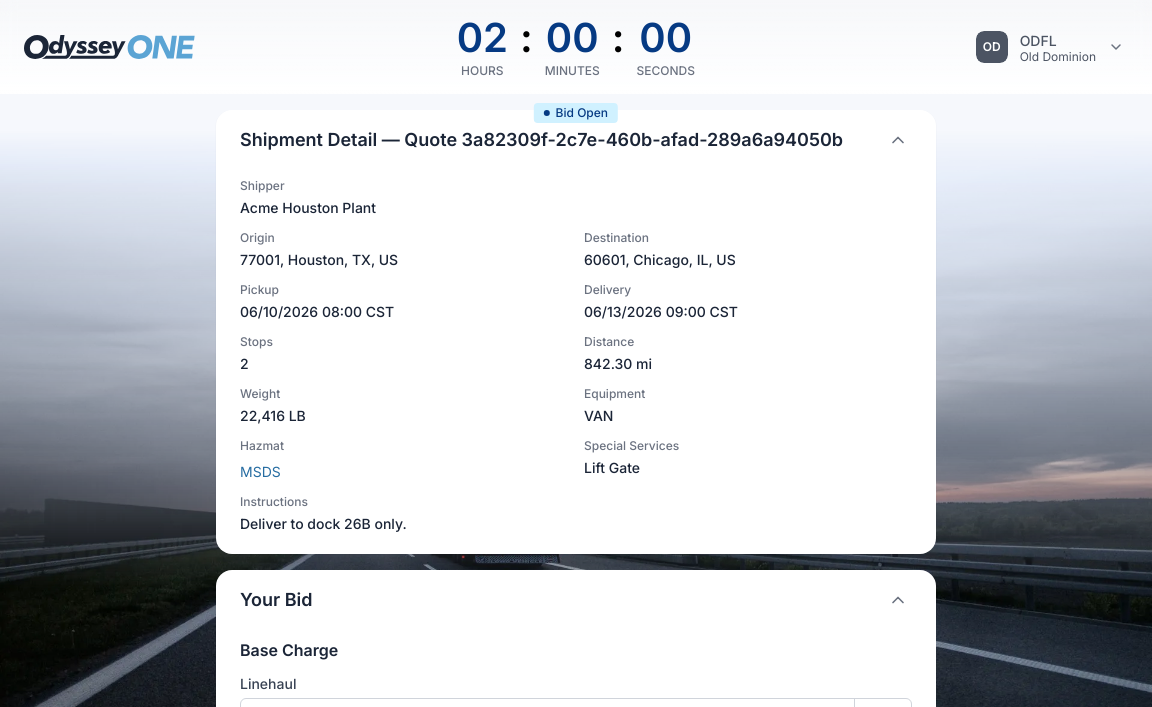
Scenario: CarrierBid — open quote › opens a profile dropdown reading "Soon, your operations in ONE place"
This screenshot has width=1152, height=707.
Check: the text "Acme Houston Plant" is shown, box [240,198,376,218]
Check: the text "Soon, your operations in ONE place" is not shown
Step 1. Click the button "OD ODFL Old Dominion" → x=1050, y=47, box [976,31,1124,63]
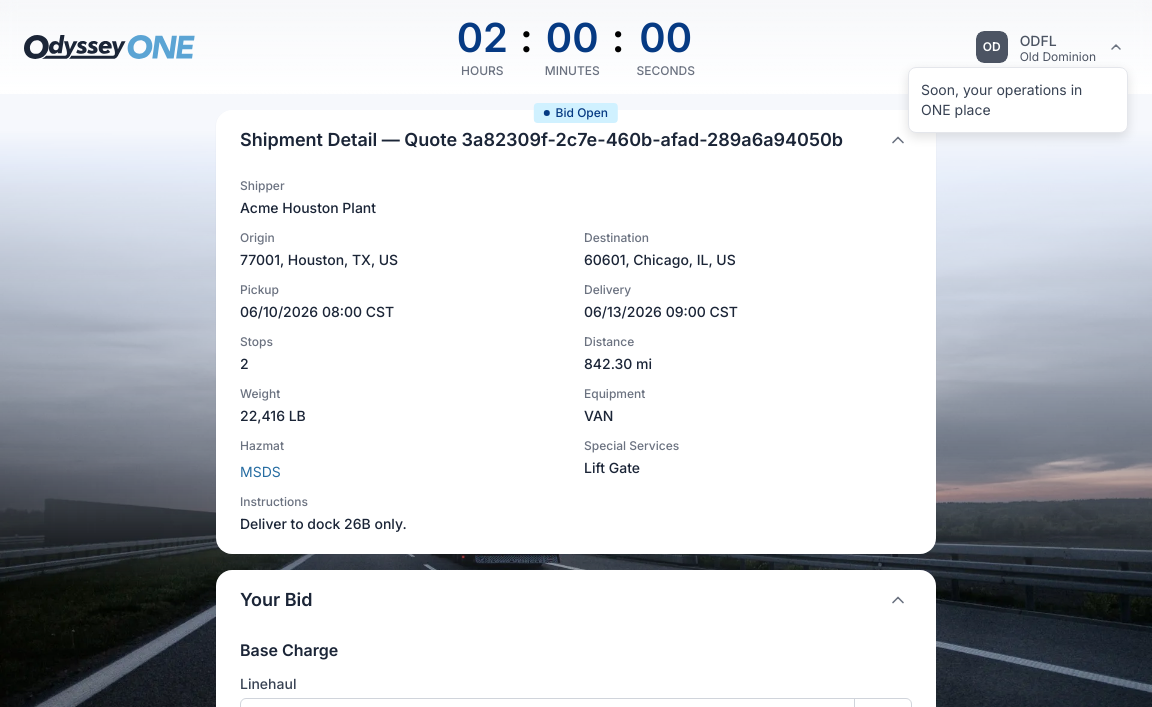
Check: the text "Soon, your operations in ONE place" is shown, box [921,81,1082,118]
